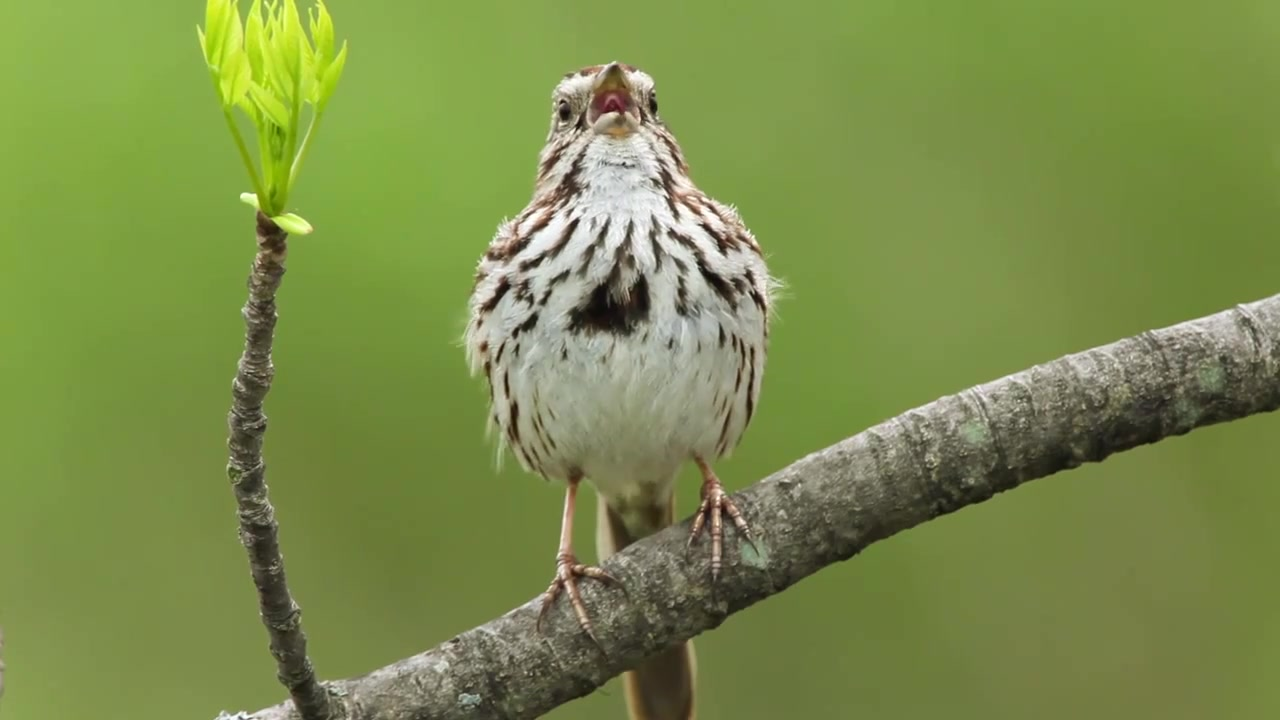bird: (452, 59, 789, 720)
